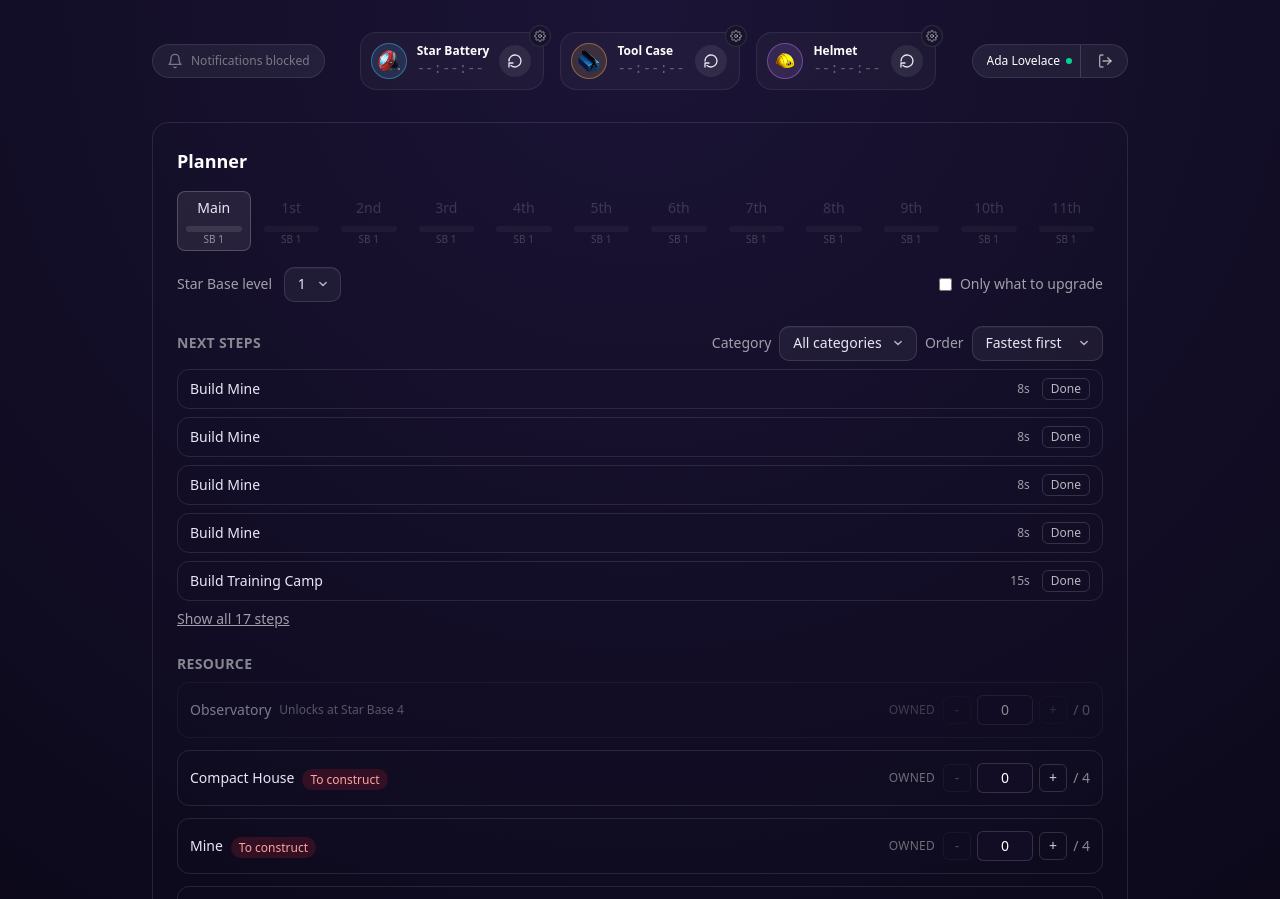
Test case: deferred sync › saves a change locally at once and sends nothing before five minutes
What coordinates should you click on to do the following:
click the button named "Start Star Battery timer"
I would click on:
 (515, 61)
Its box is [499,45,531,77].
Wait 299000 ms
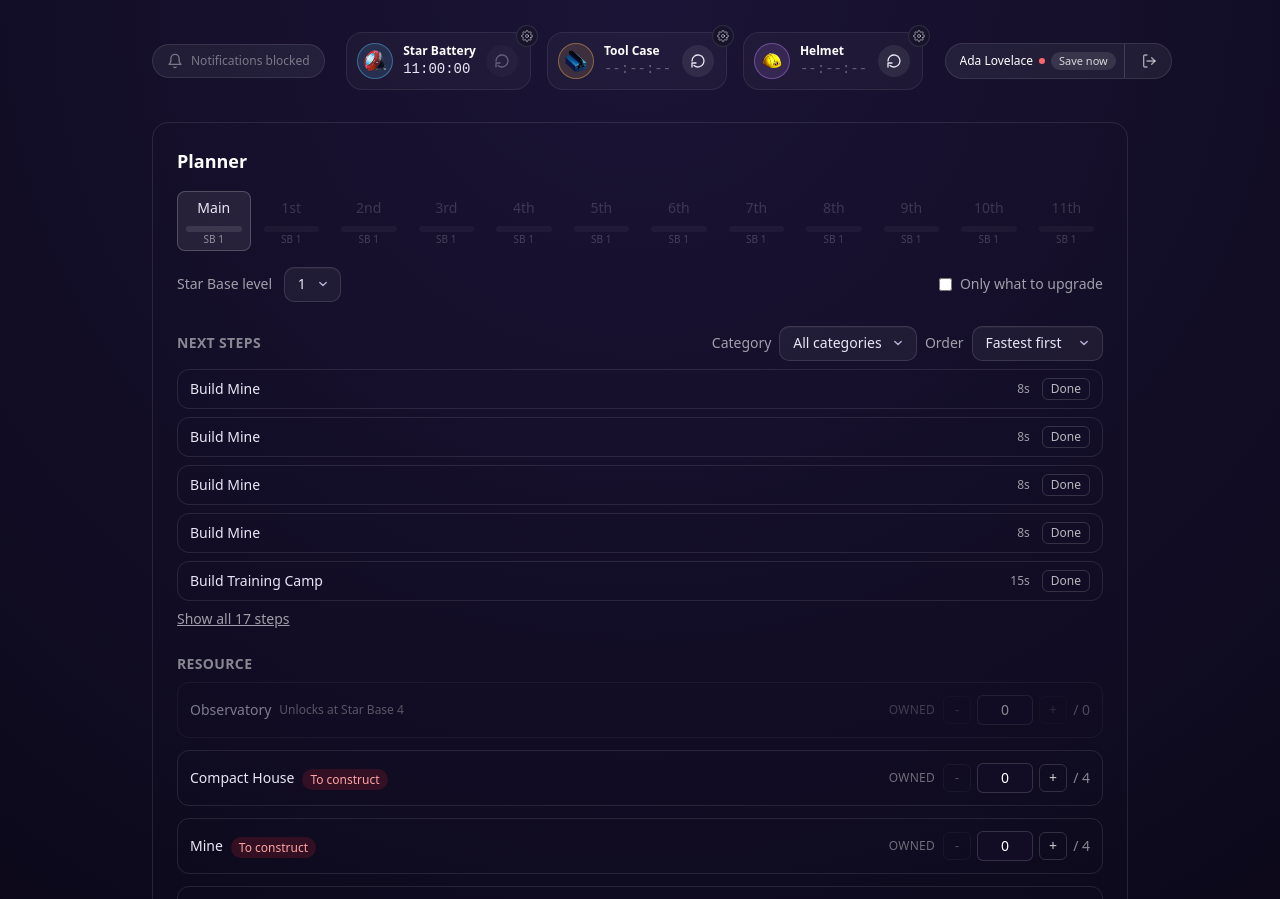
Result: the text "11:00:00" is shown at [403,59,476,79]
Result: the message named "Not synced yet, next send at" is shown at [1039,58,1045,64]
